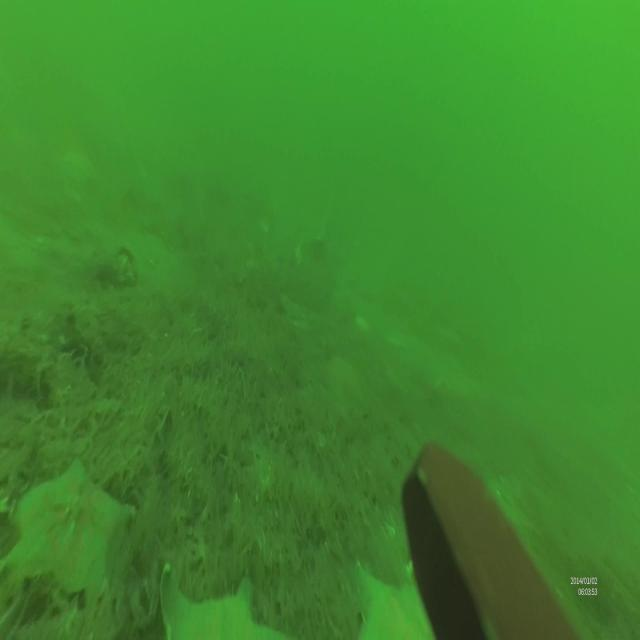starfish: (0, 457, 136, 599), (158, 558, 290, 640), (351, 559, 436, 640)
